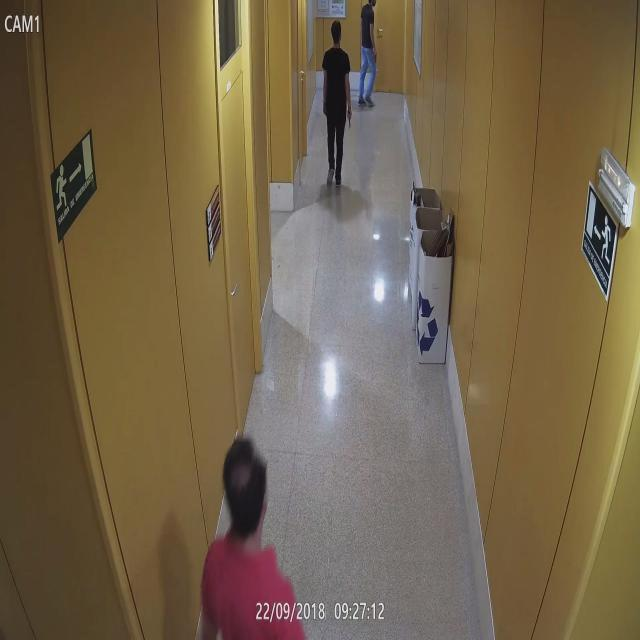weapon: (346, 109, 354, 130)
